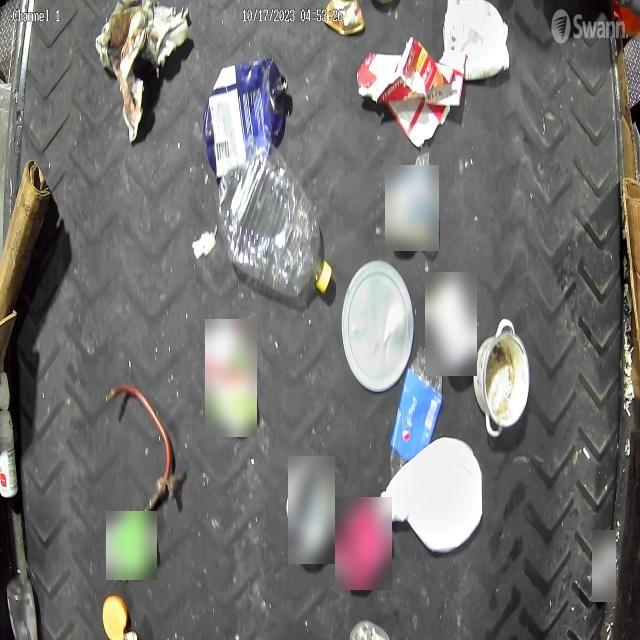plastic_bottle: (218, 153, 333, 300), (390, 344, 446, 466)
